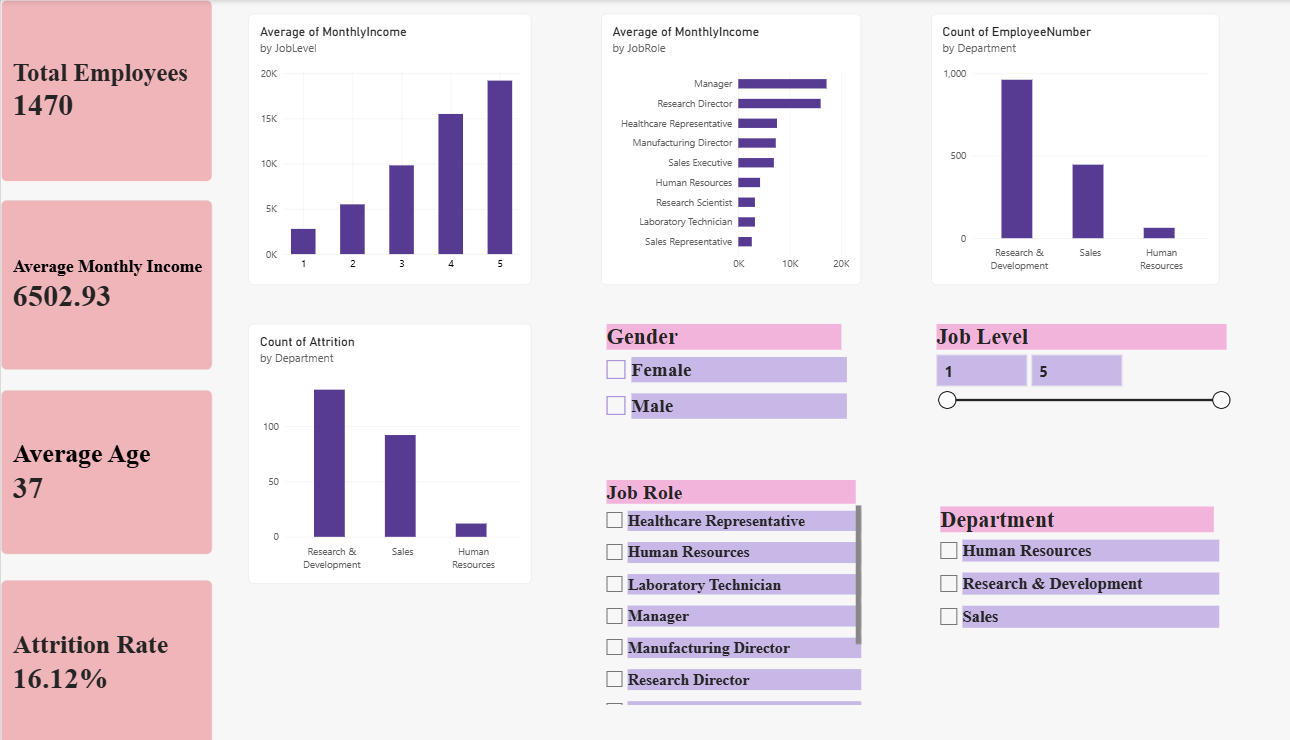

This screenshot's page, from the dashboard's own definition file:
{"tool":"powerbi","page":{"name":"Page 1","canvas":[1920,1080],"ordinal":0},"visuals":[{"type":"cardVisual","fields":{"Data":["CountNonNull(IBM_HR_Employee_Attrition.EmployeeNumber)"]},"box":[0,0,306.7,263.5],"z":0},{"type":"cardVisual","fields":{"Data":["Avg(IBM_HR_Employee_Attrition.MonthlyIncome)"]},"box":[0,290.2,306.7,247],"z":1000},{"type":"cardVisual","fields":{"Data":["Avg(IBM_HR_Employee_Attrition.Age)"]},"box":[0,564,306.7,238.8],"z":2000},{"type":"cardVisual","fields":{"Data":["IBM_HR_Employee_Attrition.Attrition Rate"]},"box":[0,839.8,306.7,240.8],"z":3000},{"type":"clusteredColumnChart","fields":{"Category":["IBM_HR_Employee_Attrition.JobLevel"],"Y":["Avg(IBM_HR_Employee_Attrition.MonthlyIncome)"]},"box":[358.1,20.6,409.6,393.1],"z":3001},{"type":"clusteredColumnChart","fields":{"Category":["IBM_HR_Employee_Attrition.Department"],"Y":["CountNonNull(IBM_HR_Employee_Attrition.EmployeeNumber)"]},"box":[1346.1,20.6,417.8,393.1],"z":3002},{"type":"clusteredBarChart","fields":{"Category":["IBM_HR_Employee_Attrition.JobRole"],"Y":["Avg(IBM_HR_Employee_Attrition.MonthlyIncome)"]},"box":[868.6,20.6,376.7,393.1],"z":3003},{"type":"clusteredColumnChart","fields":{"Category":["IBM_HR_Employee_Attrition.Department"],"Y":["CountNonNull(IBM_HR_Employee_Attrition.Attrition)"]},"box":[358.1,469.3,409.6,376.7],"z":3004},{"type":"slicer","fields":{"Values":["IBM_HR_Employee_Attrition.Department"]},"box":[1352.3,732.8,411.7,251.1],"z":3005},{"type":"slicer","fields":{"Values":["IBM_HR_Employee_Attrition.Gender"]},"box":[868.6,469.3,356.1,189.4],"z":3006},{"type":"slicer","fields":{"Values":["IBM_HR_Employee_Attrition.JobLevel"]},"box":[1346.1,469.3,436.4,226.4],"z":3007},{"type":"slicer","fields":{"Values":["IBM_HR_Employee_Attrition.JobRole"]},"box":[868.6,695.7,376.7,325.2],"z":3008}]}

Visuals, with their boxes in screenshot pixels (x1, y1, x2, y2), scaled from the page's 1920x1080 canvas onto the 1290x740 screenshot:
cardVisual - CountNonNull(IBM_HR_Employee_Attrition.EmployeeNumber): box=[0, 0, 206, 181]
cardVisual - Avg(IBM_HR_Employee_Attrition.MonthlyIncome): box=[0, 199, 206, 368]
cardVisual - Avg(IBM_HR_Employee_Attrition.Age): box=[0, 386, 206, 550]
cardVisual - IBM_HR_Employee_Attrition.Attrition Rate: box=[0, 575, 206, 739]
clusteredColumnChart - IBM_HR_Employee_Attrition.JobLevel x Avg(IBM_HR_Employee_Attrition.MonthlyIncome): box=[241, 14, 516, 283]
clusteredColumnChart - IBM_HR_Employee_Attrition.Department x CountNonNull(IBM_HR_Employee_Attrition.EmployeeNumber): box=[904, 14, 1185, 283]
clusteredBarChart - IBM_HR_Employee_Attrition.JobRole x Avg(IBM_HR_Employee_Attrition.MonthlyIncome): box=[584, 14, 837, 283]
clusteredColumnChart - IBM_HR_Employee_Attrition.Department x CountNonNull(IBM_HR_Employee_Attrition.Attrition): box=[241, 322, 516, 580]
slicer - IBM_HR_Employee_Attrition.Department: box=[909, 502, 1185, 674]
slicer - IBM_HR_Employee_Attrition.Gender: box=[584, 322, 823, 451]
slicer - IBM_HR_Employee_Attrition.JobLevel: box=[904, 322, 1198, 477]
slicer - IBM_HR_Employee_Attrition.JobRole: box=[584, 477, 837, 700]
